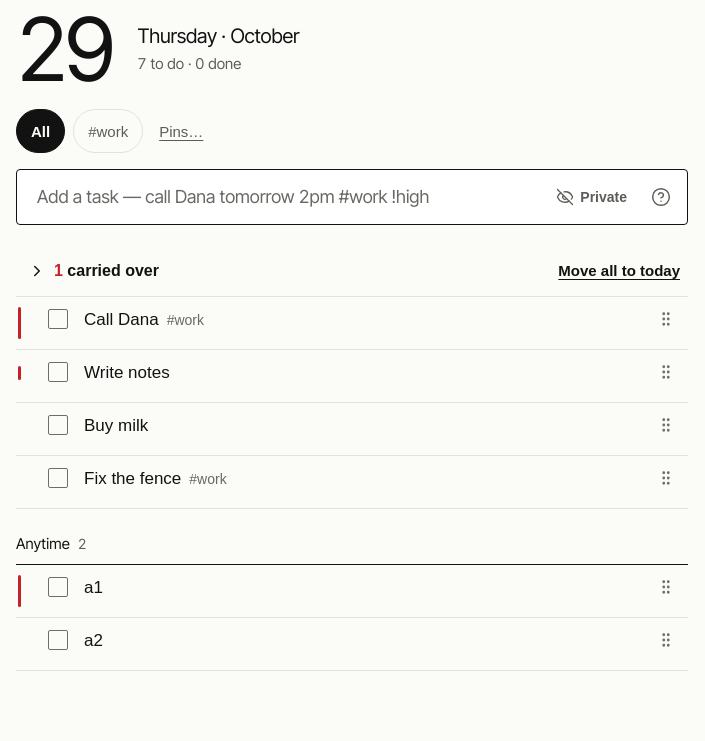
Test: the grip › every Today and Anytime row has one — "Move <words>" — and Carried over has none
Click the button "1 carried over".
click(94, 271)  # box top-left (20, 249), bottom-right (167, 293)
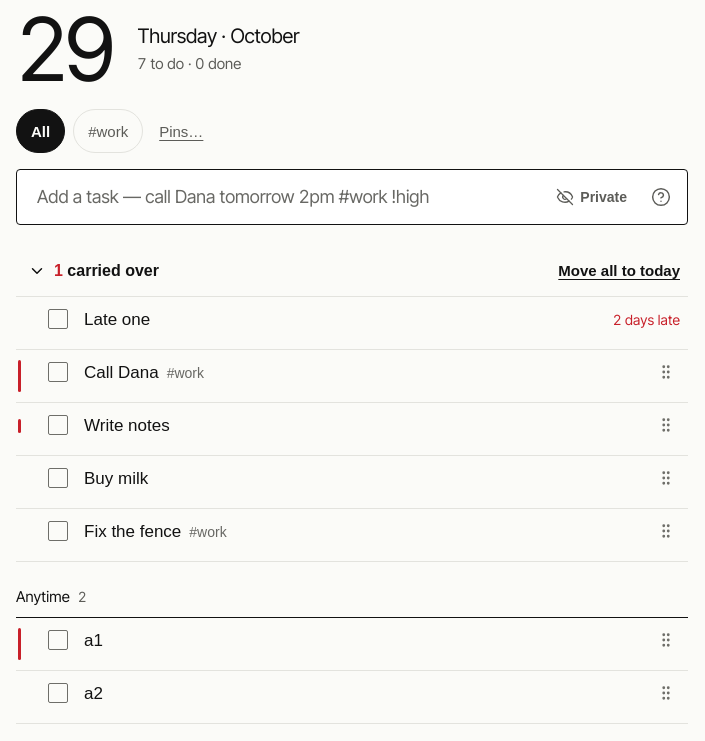
Expected: the number of buttons named "Move " is 4, top-left (644, 350), bottom-right (688, 394); top-left (644, 403), bottom-right (688, 447); top-left (644, 456), bottom-right (688, 500); top-left (644, 509), bottom-right (688, 553)
Expected: the number of buttons named "Move " is 2, top-left (644, 618), bottom-right (688, 662); top-left (644, 671), bottom-right (688, 715)
Expected: the text "Late one" is shown, top-left (81, 310), bottom-right (153, 329)
